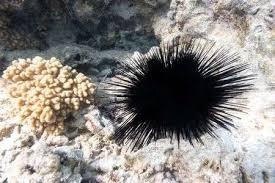urchin: (99, 35, 257, 149)
